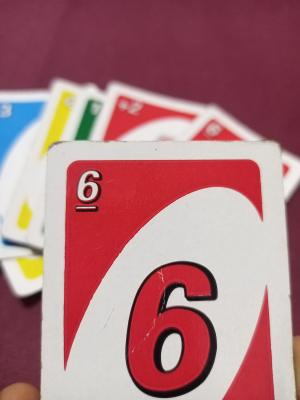num_6: (115, 253, 229, 400), (69, 161, 109, 218)
